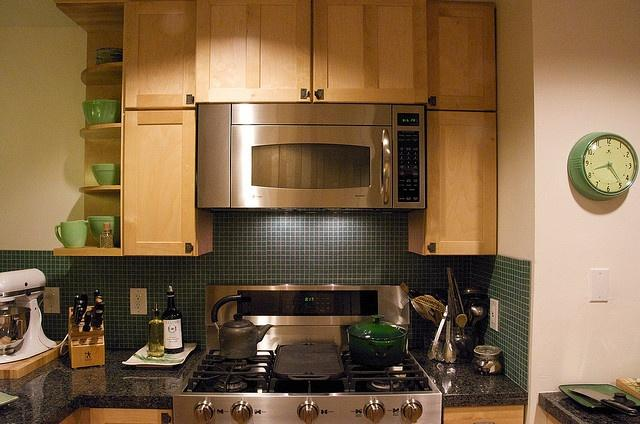Lemari: (193, 0, 426, 104), (419, 0, 496, 254), (120, 0, 196, 256)
